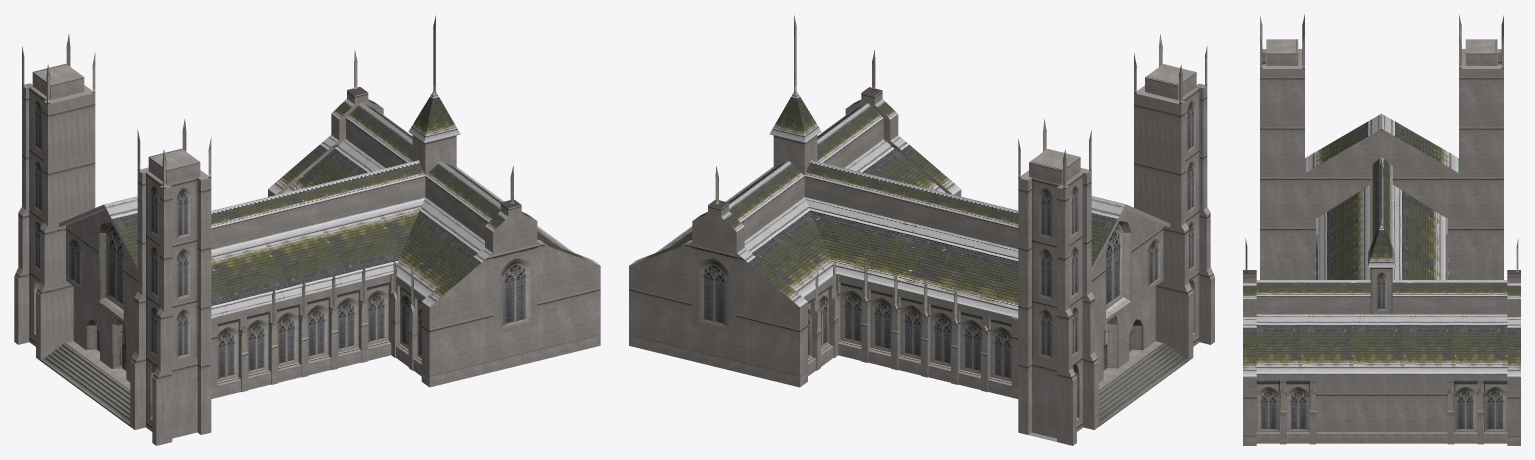
Rendered from church_sfe.obj.
3 renders of one model, left to right at view 1: azimuth 30°, elevation 25°; view 2: azimuth 150°, elevation 25°; view 3: azimuth 270°, elevation 25°, orthographic. The views are drawn at different scales.
Visible parts, largest first — view 1: church_sfe; view 2: church_sfe; view 3: church_sfe.
Part boxes in pixels (<box>): church_sfe: <box>14,15,600,445</box>; church_sfe: <box>629,15,1214,445</box>; church_sfe: <box>1243,14,1520,445</box>.
Bounding box in the file's own units: 51.4 × 33.44 × 33.11.
Materials: 8 (8 with a texture image).
